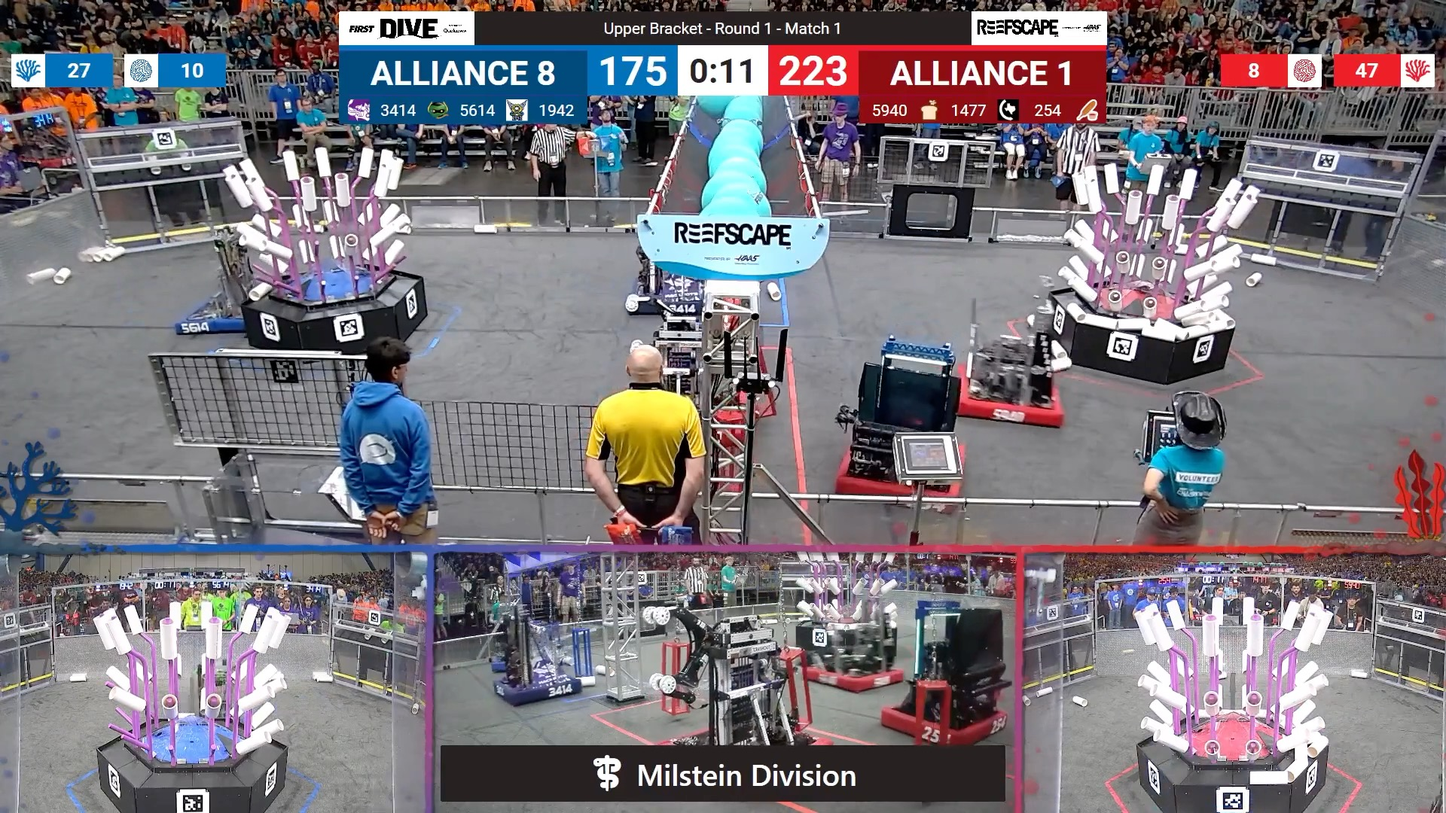bumpers: (825, 429, 973, 509), (953, 359, 1071, 435), (874, 697, 1011, 749), (175, 280, 249, 341), (790, 655, 911, 690), (628, 271, 707, 315), (485, 673, 584, 708)
